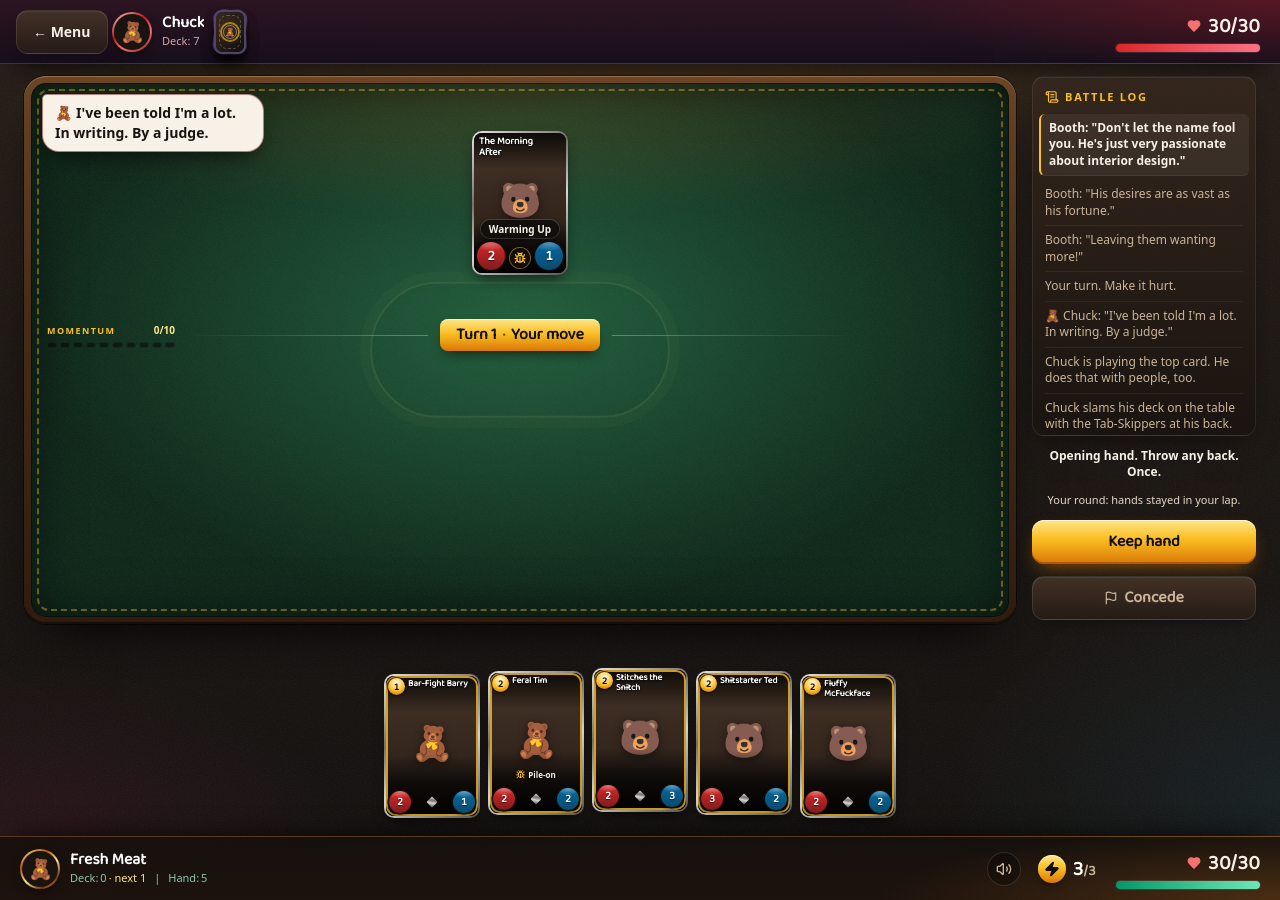
it: GameBoard › charges fatigue when the opening draw finds an empty deck
Click the button "Keep hand" at {"x": 1144, "y": 542}, box x1=1032 y1=520 x2=1256 y2=564
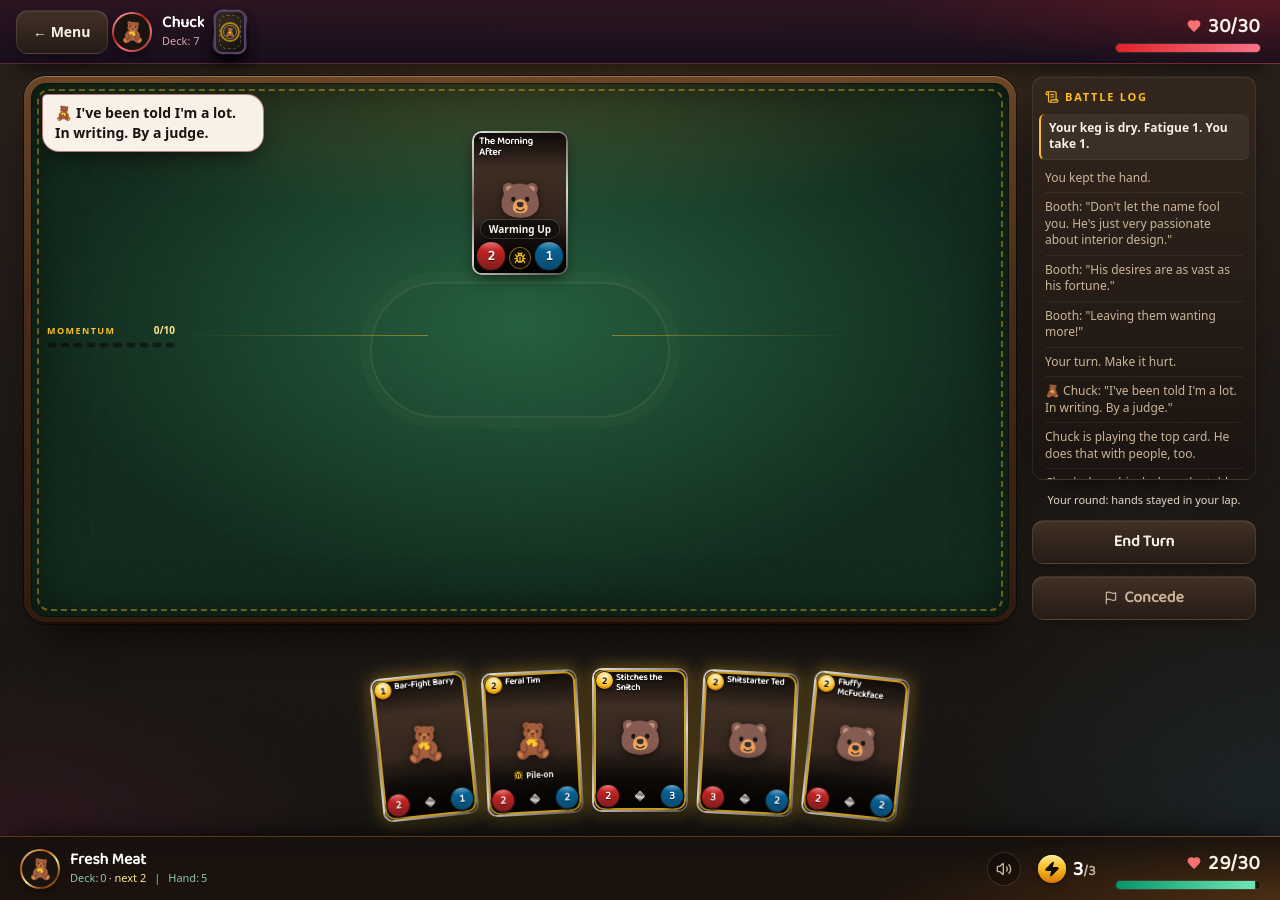
Check: the element showing "· next 2" is shown, box x1=109 y1=870 x2=146 y2=887
